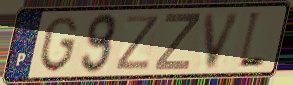9: (78, 11, 118, 77)
G: (37, 15, 80, 75)
L: (235, 9, 267, 72)
V: (203, 10, 245, 72)
Z: (151, 12, 202, 73), (113, 14, 162, 72)
